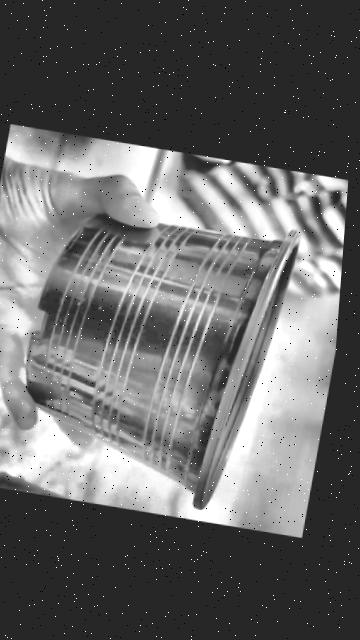pot: (27, 216, 299, 507)
